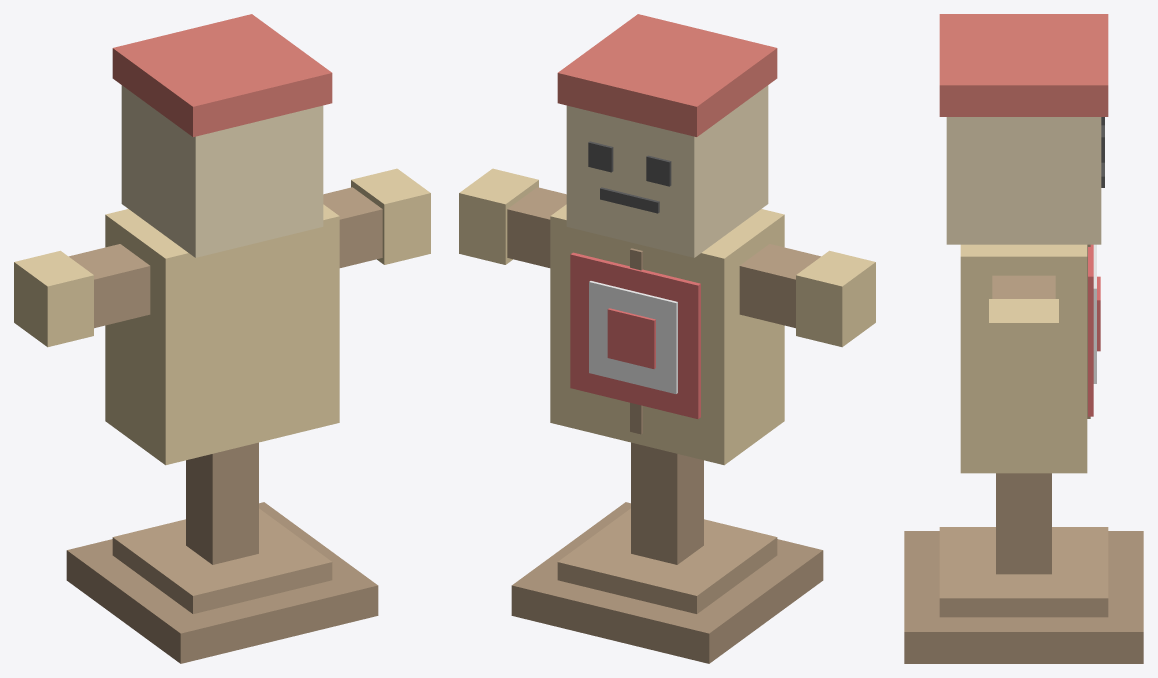
File: TrainingDummy.fbx
3 renders of one model, left to right at view 1: azimuth 30°, elevation 25°; view 2: azimuth 150°, elevation 25°; view 3: azimuth 270°, elevation 25°, orthographic. The views are drawn at different scales.
Visible parts, largest first — view 1: Body, Head, Cap, Foot, Foot.001, Pole, Arms, Hand.001, Hand; view 2: Body, Head, Cap, Foot, Foot.001, TargetRing, Pole, Arms, Hand.001, TargetRing.001, Hand, TargetRing.002 (+4 smaller); view 3: Body, Head, Cap, Foot, Foot.001, Hand, Pole, Arms, TargetRing, TargetRing.001.
Part boxes in pixels (left/top/right/bottom): Body: left=105, top=204, right=339, bottom=465; Head: left=121, top=85, right=323, bottom=257; Cap: left=112, top=14, right=332, bottom=136; Foot: left=66, top=502, right=378, bottom=663; Foot.001: left=112, top=508, right=332, bottom=613; Pole: left=186, top=442, right=258, bottom=564; Arms: left=69, top=187, right=382, bottom=328; Hand.001: left=14, top=250, right=93, bottom=347; Hand: left=351, top=168, right=430, bottom=264; Body: left=550, top=204, right=784, bottom=465; Head: left=566, top=85, right=768, bottom=257; Cap: left=557, top=14, right=777, bottom=136; Foot: left=511, top=502, right=823, bottom=663; Foot.001: left=557, top=508, right=777, bottom=613; TargetRing: left=570, top=252, right=700, bottom=418; Pole: left=631, top=442, right=703, bottom=564; Arms: left=507, top=187, right=820, bottom=328; Hand.001: left=796, top=250, right=875, bottom=347; TargetRing.001: left=589, top=281, right=677, bottom=393; Hand: left=459, top=168, right=538, bottom=264; TargetRing.002: left=607, top=308, right=655, bottom=368; Body: left=960, top=244, right=1087, bottom=473; Head: left=946, top=117, right=1101, bottom=244; Cap: left=939, top=14, right=1108, bottom=116; Foot: left=904, top=531, right=1143, bottom=663; Foot.001: left=939, top=527, right=1108, bottom=617; Hand: left=989, top=299, right=1058, bottom=386; Pole: left=996, top=473, right=1051, bottom=574; Arms: left=992, top=275, right=1055, bottom=298; TargetRing: left=1088, top=244, right=1093, bottom=416; TargetRing.001: left=1093, top=244, right=1096, bottom=383.
Bounding box in the file's own units: 185 × 248 × 95.2.
